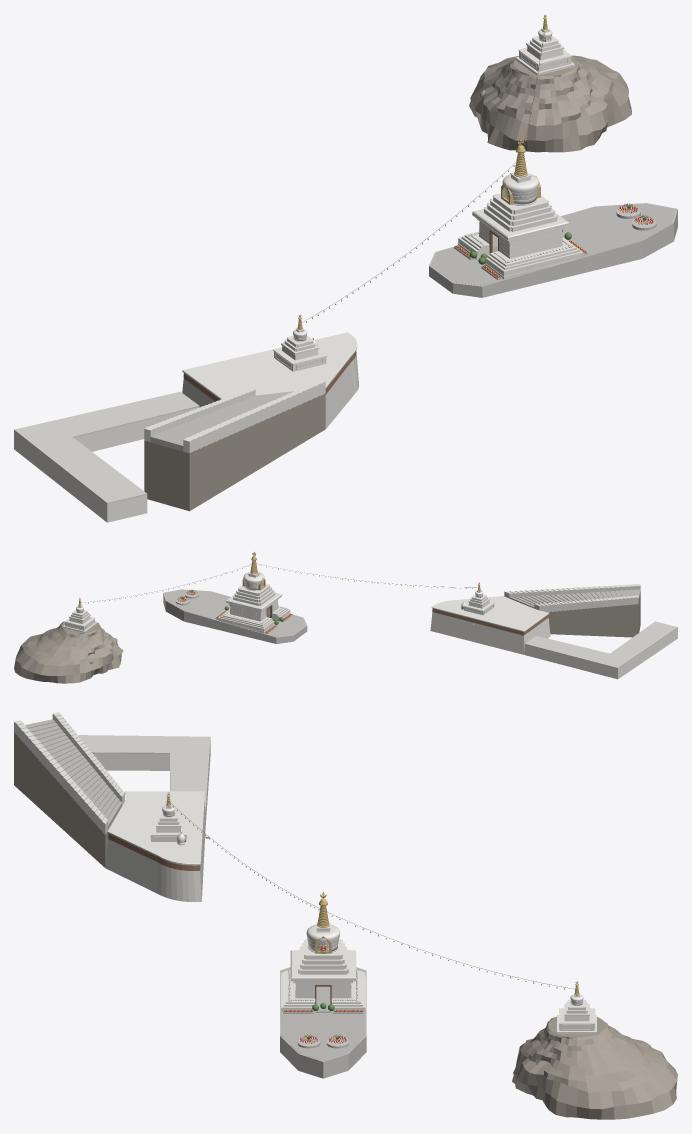
Rendered from pargo-kaling.glb.
The picture shows the model from 3 angles, top to bottom: view 1: azimuth 30°, elevation 25°; view 2: azimuth 150°, elevation 25°; view 3: azimuth 270°, elevation 25°; orthographic projection. The views are drawn at different scales.
Visible parts, largest first — view 1: pargo-kaling; view 2: pargo-kaling; view 3: pargo-kaling.
Part boxes in pixels (box(x1,y1,x2,y2)): pargo-kaling: box(14, 14, 677, 522); pargo-kaling: box(14, 551, 677, 683); pargo-kaling: box(14, 712, 677, 1119).
Bounding box in the file's own units: 139 × 20.64 × 106.
